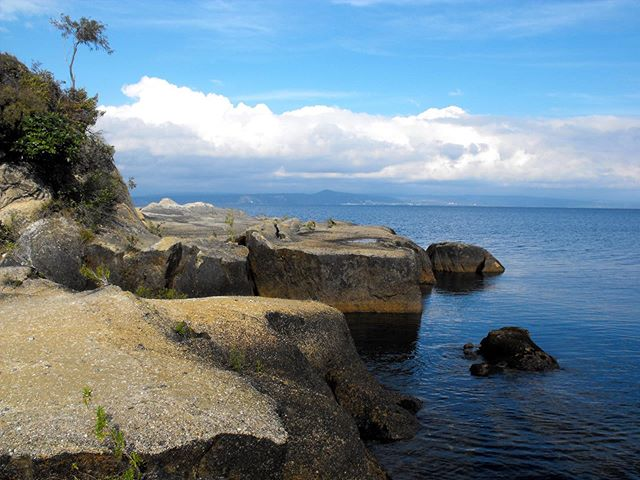rocks: (1, 181, 459, 480)
sea: (325, 200, 640, 480)
sky: (132, 1, 640, 190)
